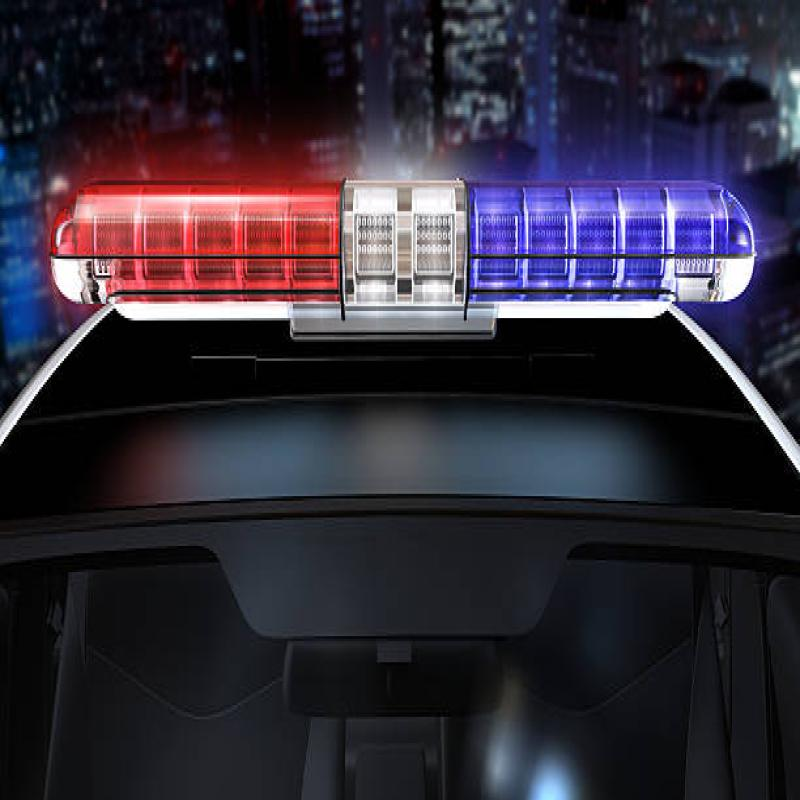AmbulanceSiren: (36, 134, 788, 384)
